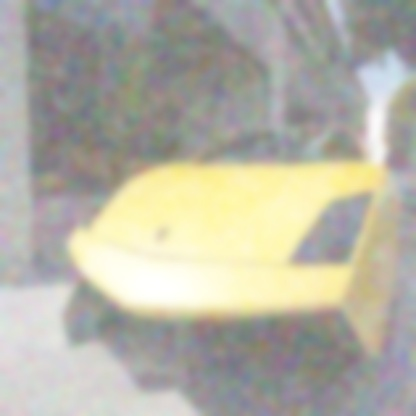Vehicle: (63, 125, 402, 415)
